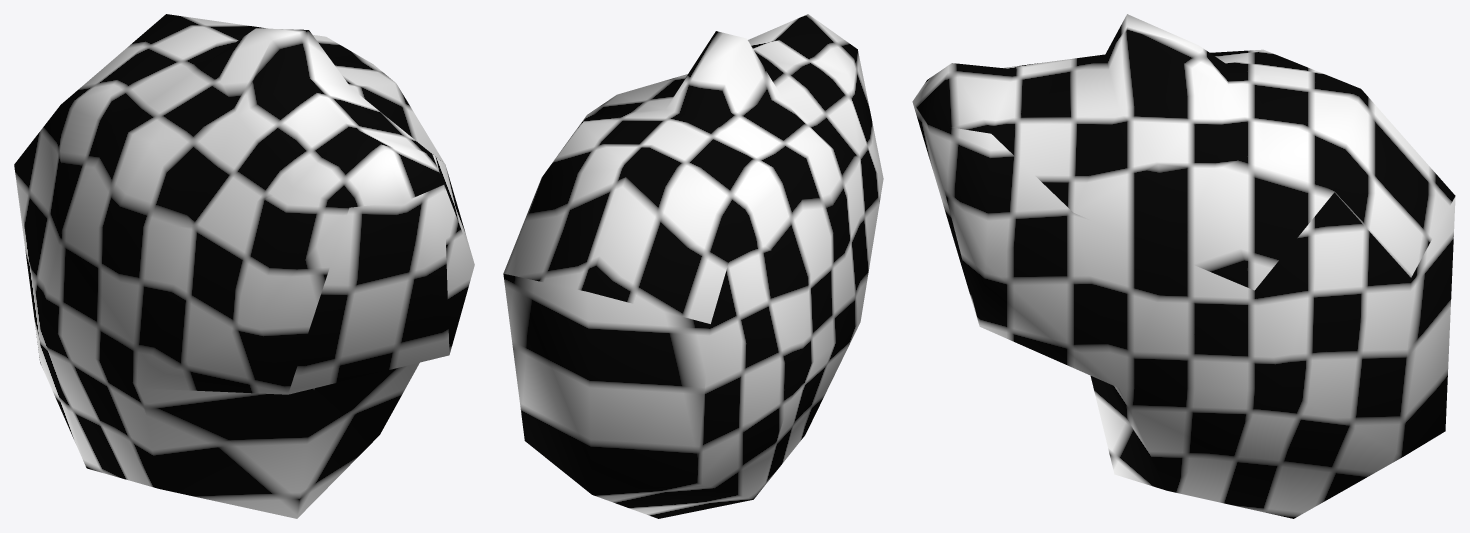
File: infaunhuma28.dae
The picture shows the model from 3 angles, left to right: view 1: azimuth 30°, elevation 25°; view 2: azimuth 150°, elevation 25°; view 3: azimuth 270°, elevation 25°; orthographic projection. The views are drawn at different scales.
Parts seen in each view (by area): view 1: face; view 2: face; view 3: face.
Boxes of the visible parts, x1,y1,x2,y2 form: face: (14,14,474,518); face: (503,14,883,518); face: (912,14,1455,518).
Bounding box in the file's own units: 0.9059 × 1.35 × 1.35.
1 material, 1 textured.
